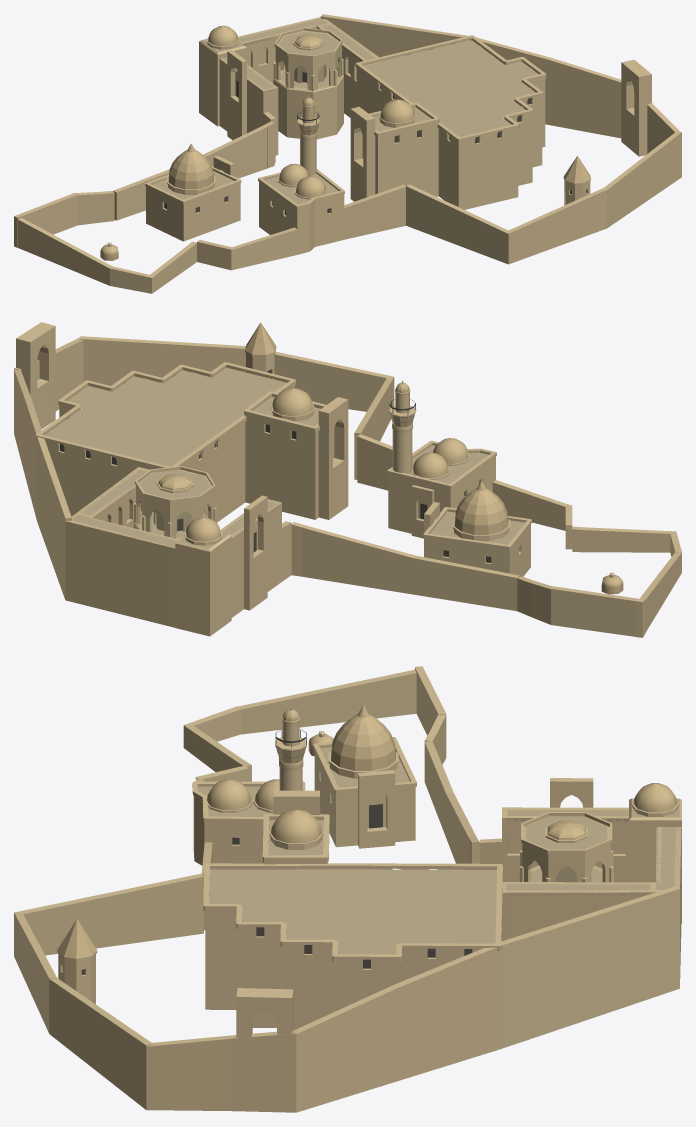
The model's file is baku-shirvanshahs-palace.glb.
The picture shows the model from 3 angles, top to bottom: view 1: azimuth 30°, elevation 25°; view 2: azimuth 150°, elevation 25°; view 3: azimuth 270°, elevation 25°; orthographic projection. The views are drawn at different scales.
Visible parts, largest first — view 1: Palace of the Shirvanshahs; view 2: Palace of the Shirvanshahs; view 3: Palace of the Shirvanshahs.
Boxes of the visible parts, x1,y1,x2,y2 form: Palace of the Shirvanshahs: (14, 14, 681, 293); Palace of the Shirvanshahs: (14, 322, 681, 637); Palace of the Shirvanshahs: (14, 666, 681, 1112).
Bounding box in the file's own units: 119 × 24.44 × 83.51.
